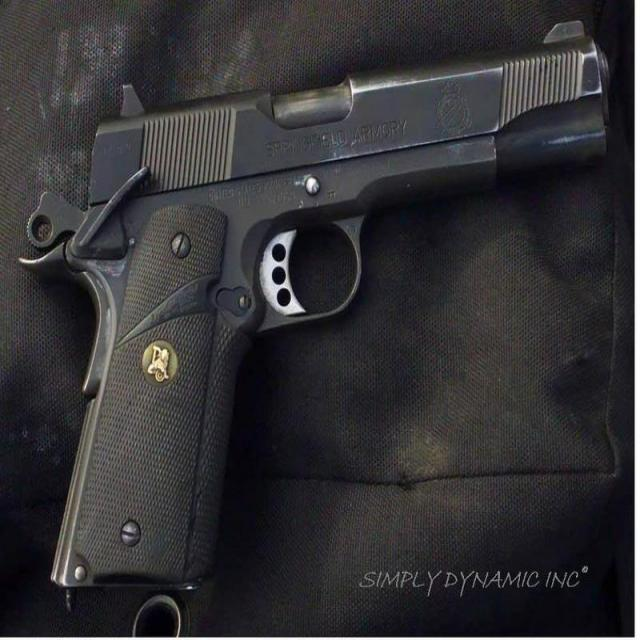gun-knife-thesis - v11 Yolov5 augmented: (9, 17, 618, 605)
